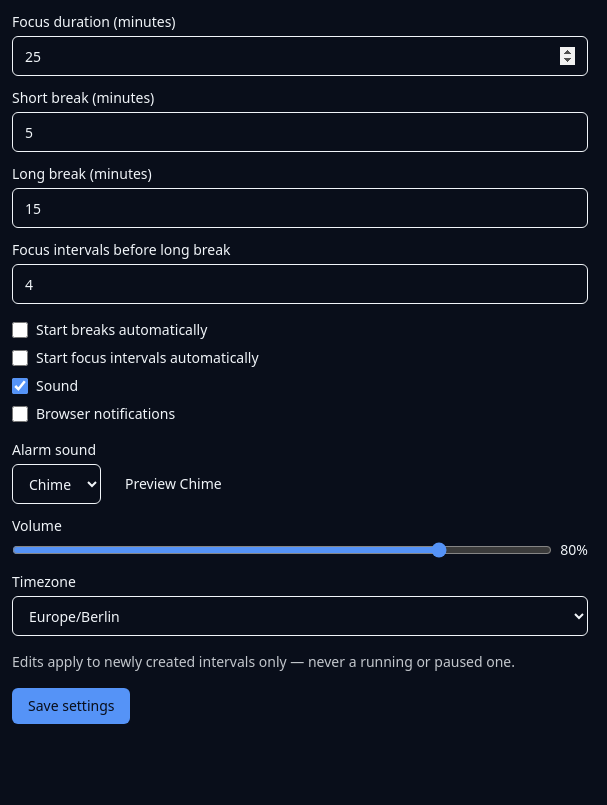
<SettingsForm /> (spec §8.7) › saves minutes as seconds and announces new-intervals-only
Check: the button "Save settings" is shown, box x1=12 y1=688 x2=130 y2=724
Replace the text in the number field labelled "Focus duration (minutes)" with "60" at (300, 56), box x1=12 y1=36 x2=588 y2=76
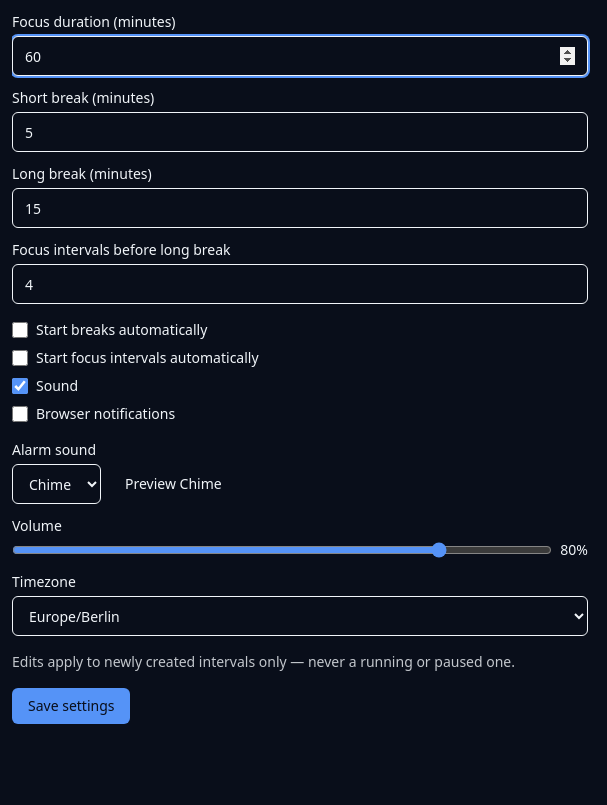
Click the button "Save settings".
click(71, 706)  # box x1=12 y1=688 x2=130 y2=724
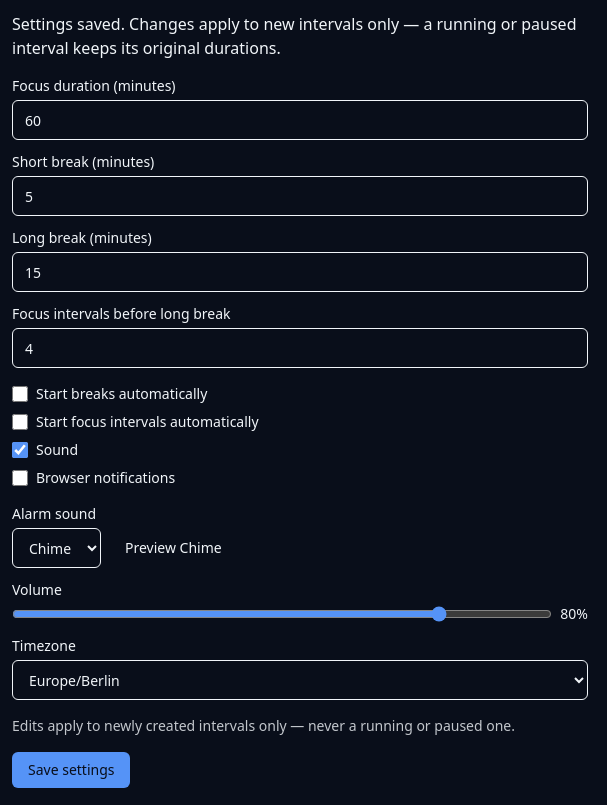
Check: the text "new intervals only" is shown, box x1=12 y1=13 x2=576 y2=59
